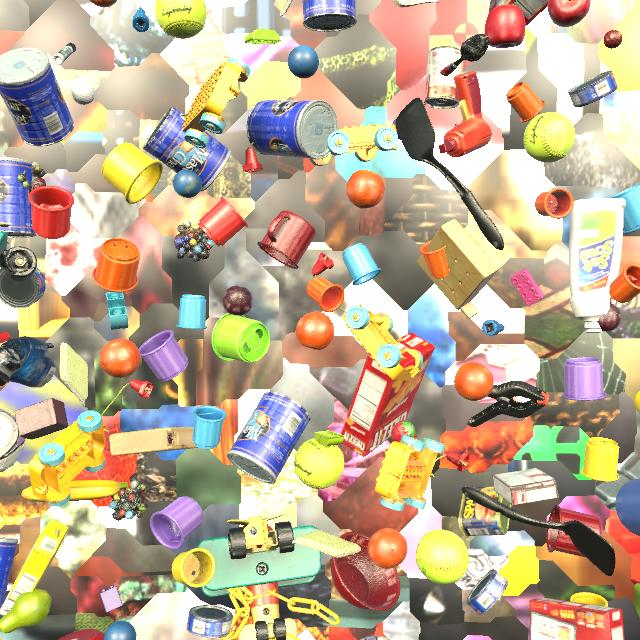ycb_002_master_chef_can: (227, 391, 310, 484), (142, 106, 231, 192), (0, 47, 74, 146), (247, 100, 339, 160), (0, 157, 37, 238), (303, 0, 357, 32), (0, 537, 18, 615)
ycb_003_cracker_box: (341, 332, 435, 457), (529, 597, 625, 640), (488, 0, 548, 26)
ycb_004_sugar_box: (0, 519, 69, 616)
ycb_005_tomato_soup_can: (424, 46, 462, 109)
ycb_007_tuna_fish_can: (466, 569, 509, 616), (0, 267, 46, 308), (568, 71, 618, 108), (186, 605, 233, 638)
ycb_008_pudding_box: (493, 468, 559, 506)
ycb_009_gelatin_box: (296, 628, 316, 640)
ycb_010_potted_meat_can: (458, 486, 512, 538)
ycb_011_banana: (21, 480, 128, 502)
ycb_012_strawberry: (391, 420, 417, 442)
ycb_013_apple: (485, 4, 526, 48), (547, 0, 591, 27)
ycb_016_pear: (0, 589, 51, 633)
ycb_017_orange: (368, 528, 407, 569), (100, 339, 141, 378), (454, 362, 494, 401), (346, 170, 385, 209), (296, 311, 335, 350), (90, 0, 117, 7)
ycb_018_plum: (223, 286, 252, 316), (597, 303, 621, 331)
